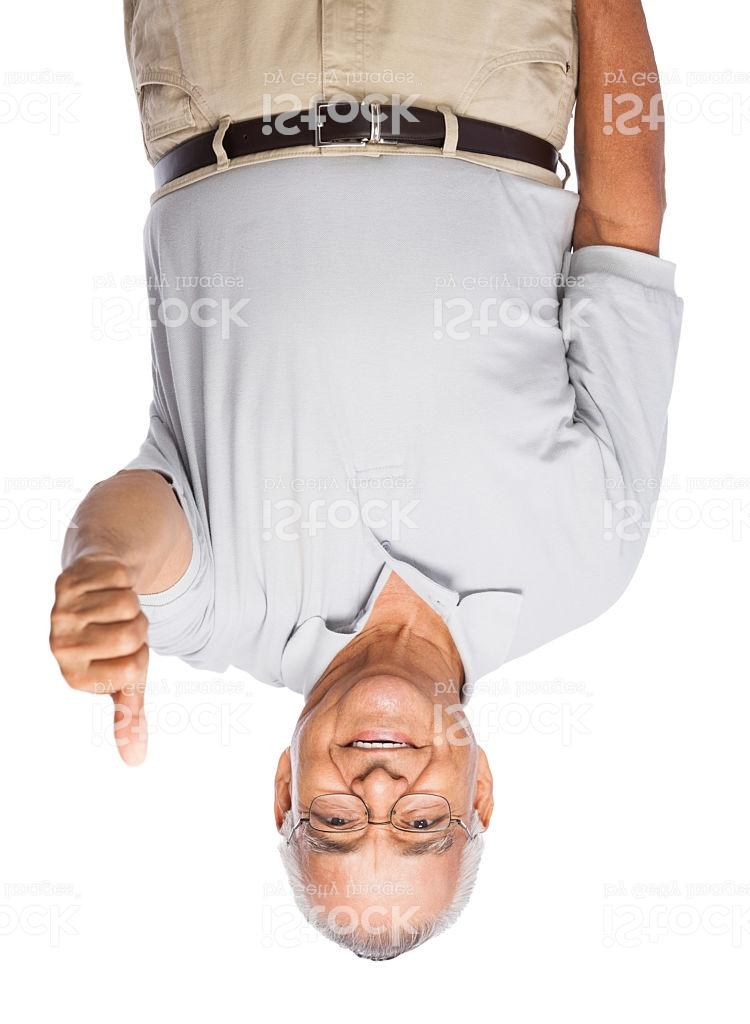thumbsdown: (49, 560, 150, 767)
